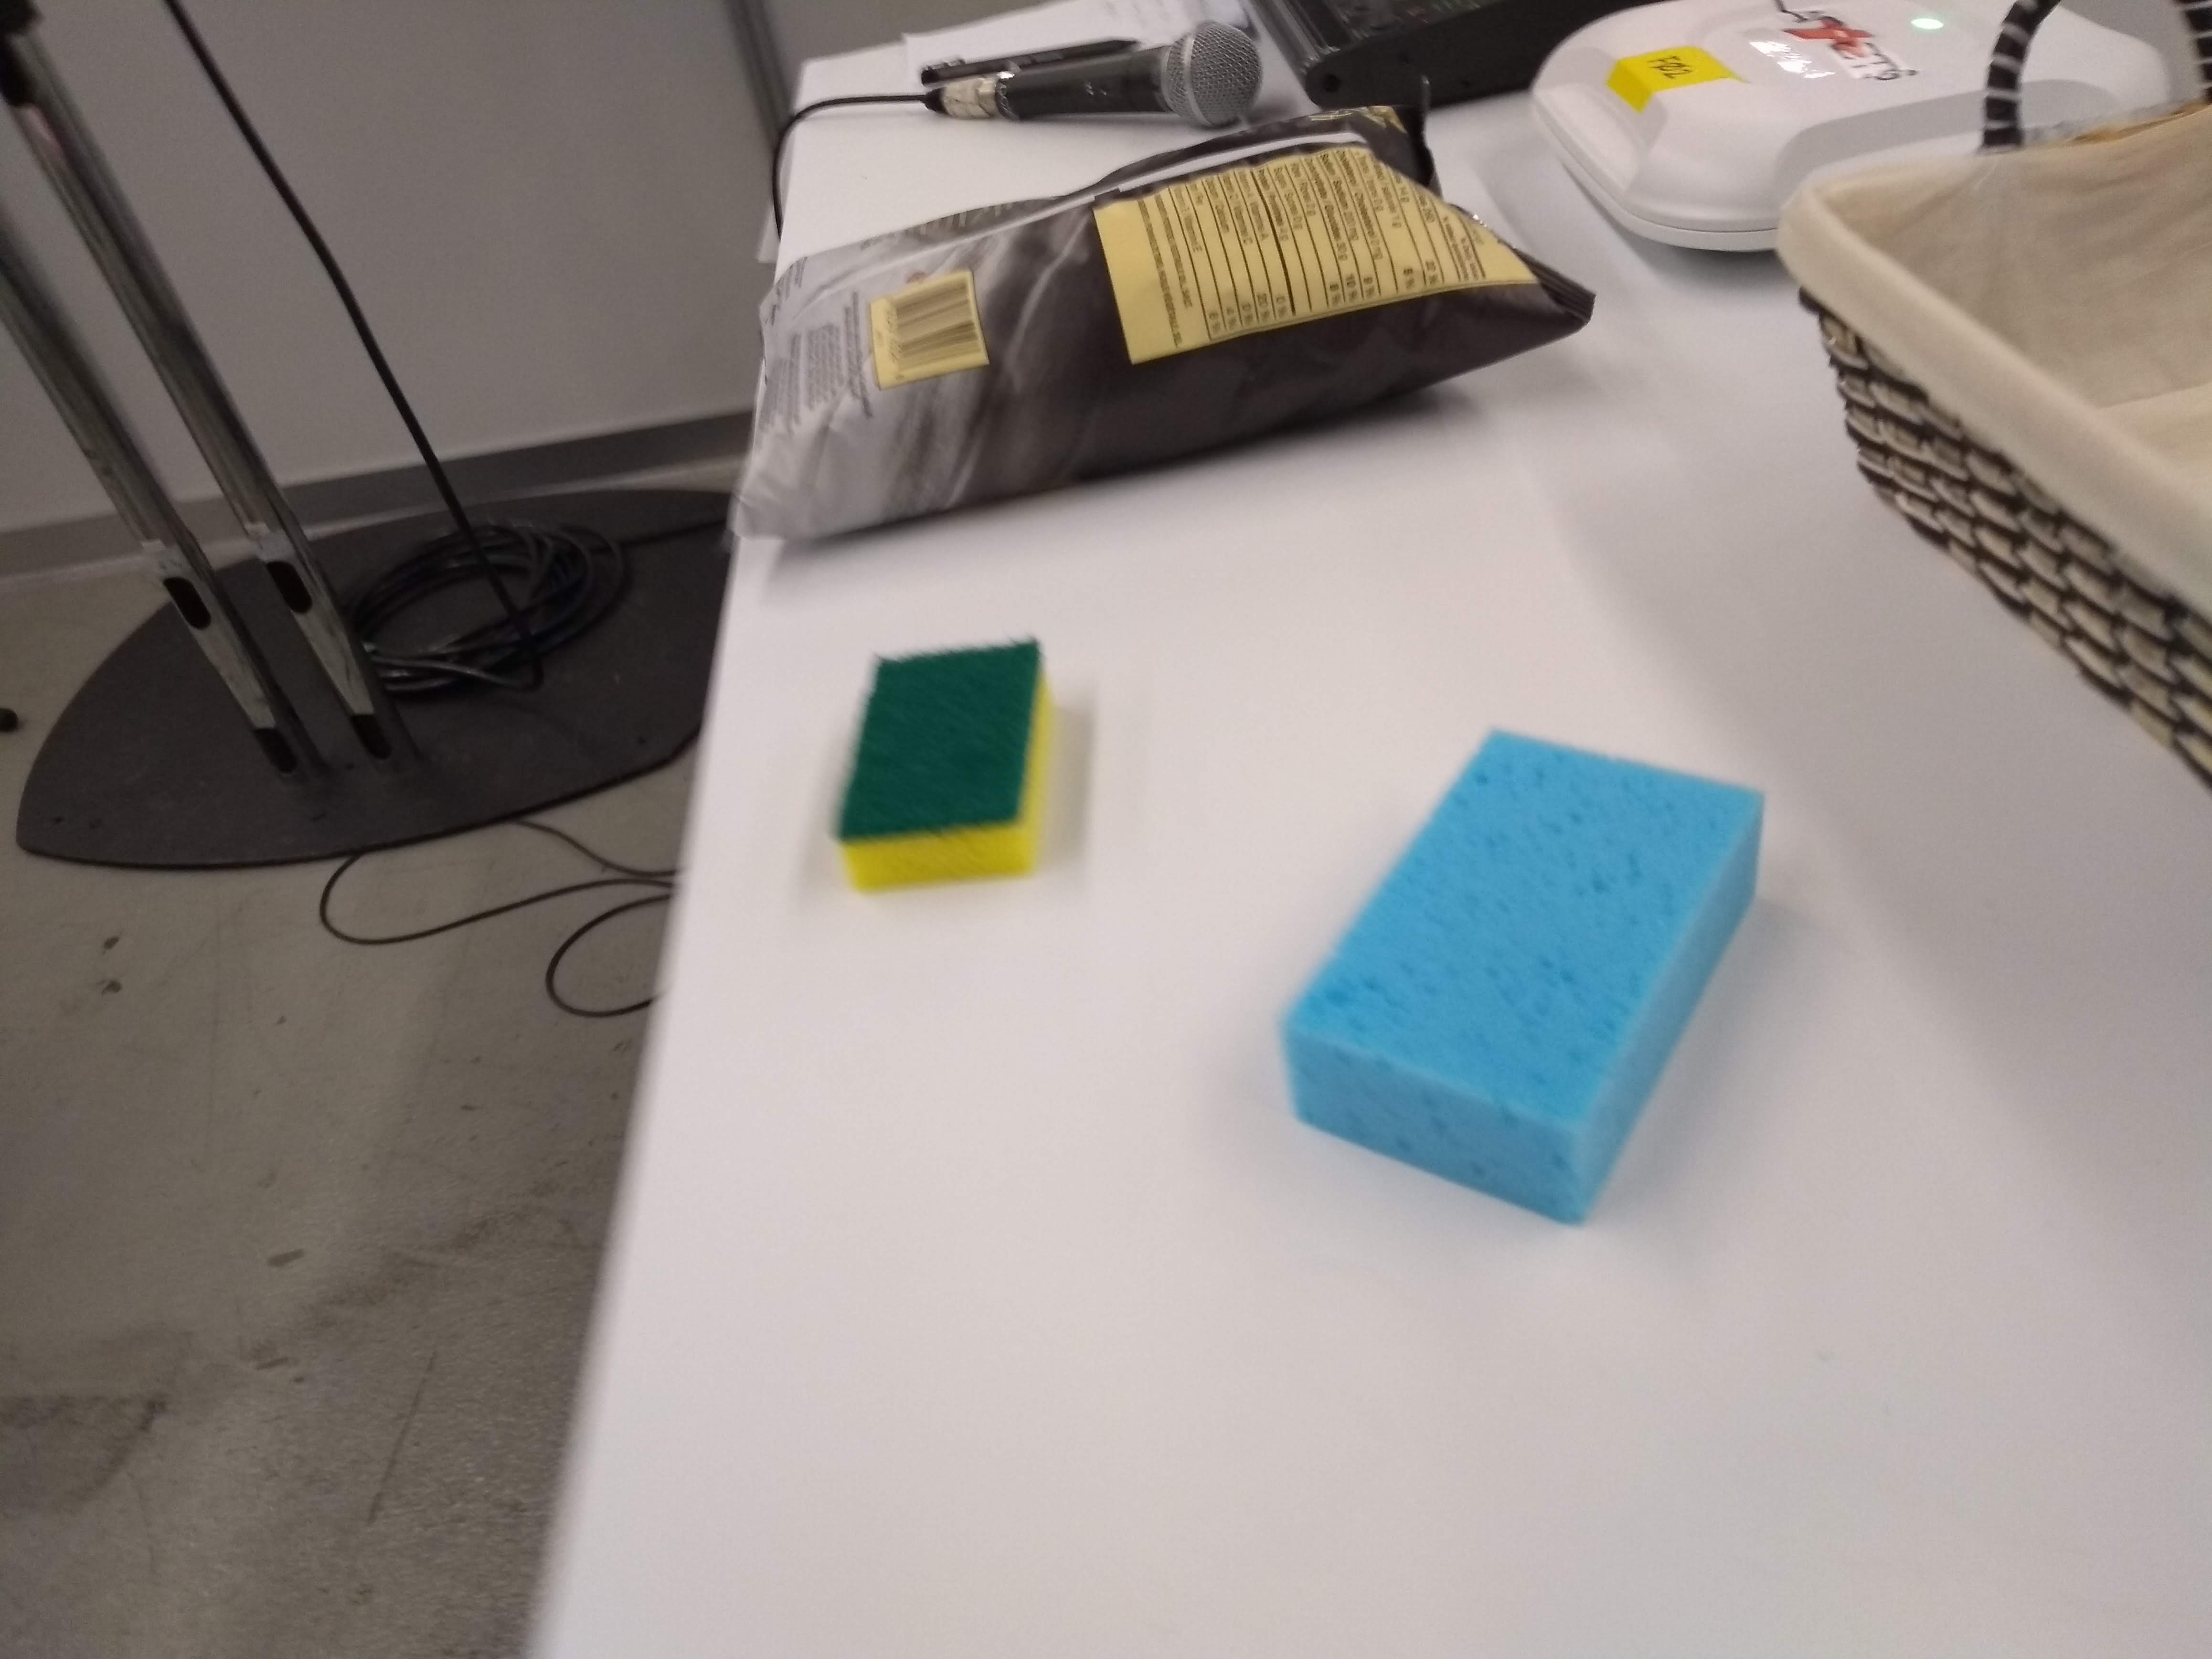potato_chips: (714, 61, 1609, 565)
scrubby: (819, 624, 1068, 908)
sponge_opl: (1268, 716, 1777, 1241)
